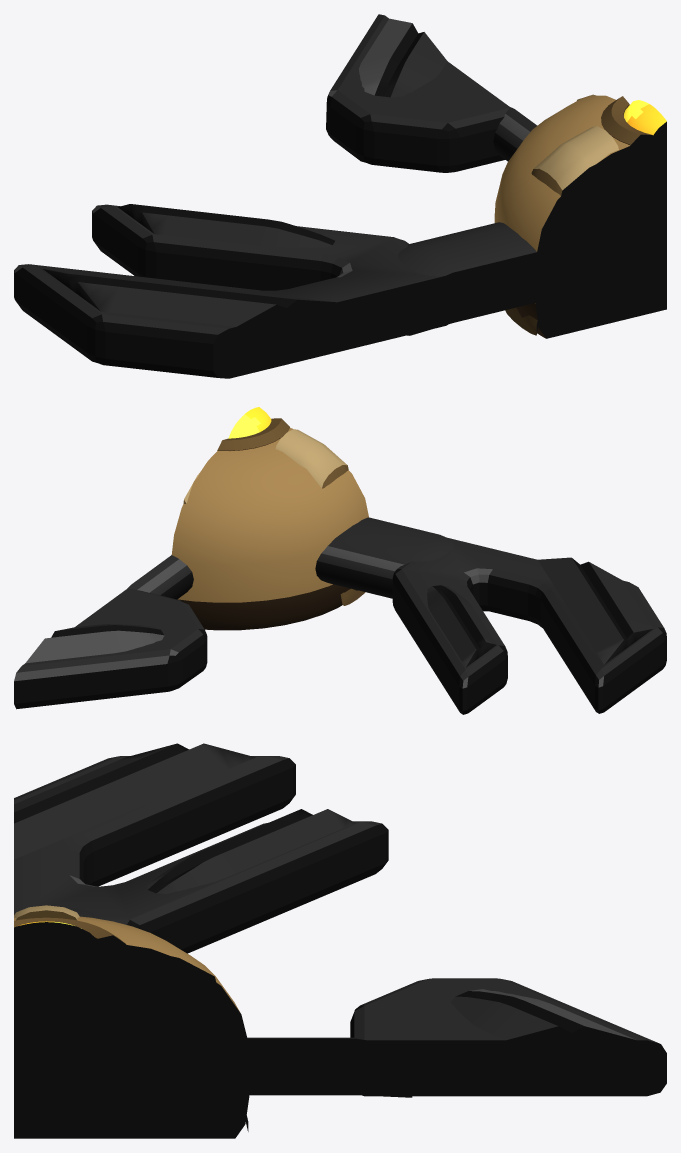
The model's file is spin_claw_153.glb.
The picture shows the model from 3 angles, top to bottom: view 1: azimuth 30°, elevation 25°; view 2: azimuth 150°, elevation 25°; view 3: azimuth 270°, elevation 25°; orthographic projection. The views are drawn at different scales.
Visible parts, largest first — view 1: spin_claw_153_arm3_plate, spin_claw_153_hub_dome, spin_claw_153_arm0_plate, spin_claw_153_arm3_rod, spin_claw_153_arm3_ridge0, spin_claw_153_arm3_ridge1, spin_claw_153_arm0_ridge0, spin_claw_153_hub_rib3, spin_claw_153_hub_bezel, spin_claw_153_arm0_rod, spin_claw_153_hub_lens; view 2: spin_claw_153_hub_dome, spin_claw_153_arm3_plate, spin_claw_153_arm0_plate, spin_claw_153_arm3_rod, spin_claw_153_arm3_ridge0, spin_claw_153_arm0_ridge0, spin_claw_153_arm3_ridge1, spin_claw_153_hub_rib3, spin_claw_153_arm0_rod, spin_claw_153_hub_bezel, spin_claw_153_hub_lens; view 3: spin_claw_153_hub_dome, spin_claw_153_arm3_plate, spin_claw_153_arm0_plate, spin_claw_153_arm0_rod, spin_claw_153_arm3_ridge0, spin_claw_153_arm3_ridge1, spin_claw_153_arm0_ridge0, spin_claw_153_hub_lens, spin_claw_153_hub_bezel, spin_claw_153_hub_rib3.
Part boxes in pixels (left/top/right/bottom): spin_claw_153_arm3_plate: left=14, top=204, right=457, bottom=378; spin_claw_153_hub_dome: left=494, top=95, right=666, bottom=338; spin_claw_153_arm0_plate: left=326, top=14, right=509, bottom=172; spin_claw_153_arm3_rod: left=398, top=222, right=610, bottom=335; spin_claw_153_arm3_ridge0: left=43, top=269, right=346, bottom=337; spin_claw_153_arm3_ridge1: left=118, top=204, right=335, bottom=247; spin_claw_153_arm0_ridge0: left=359, top=18, right=447, bottom=97; spin_claw_153_hub_rib3: left=505, top=126, right=619, bottom=335; spin_claw_153_hub_bezel: left=601, top=96, right=666, bottom=157; spin_claw_153_arm0_rod: left=493, top=107, right=537, bottom=161; spin_claw_153_hub_lens: left=624, top=100, right=666, bottom=155; spin_claw_153_hub_dome: left=171, top=427, right=368, bottom=630; spin_claw_153_arm3_plate: left=392, top=538, right=666, bottom=714; spin_claw_153_arm0_plate: left=14, top=588, right=207, bottom=709; spin_claw_153_arm3_rod: left=315, top=517, right=453, bottom=598; spin_claw_153_arm3_ridge0: left=538, top=557, right=653, bottom=664; spin_claw_153_arm0_ridge0: left=25, top=624, right=164, bottom=663; spin_claw_153_arm3_ridge1: left=427, top=585, right=496, bottom=667; spin_claw_153_hub_rib3: left=275, top=429, right=365, bottom=605; spin_claw_153_arm0_rod: left=127, top=555, right=193, bottom=599; spin_claw_153_hub_bezel: left=217, top=418, right=289, bottom=450; spin_claw_153_hub_lens: left=228, top=407, right=271, bottom=438; spin_claw_153_hub_dome: left=14, top=916, right=249, bottom=1138; spin_claw_153_arm3_plate: left=14, top=756, right=388, bottom=953; spin_claw_153_arm0_plate: left=350, top=978, right=666, bottom=1096; spin_claw_153_arm0_rod: left=152, top=1037, right=412, bottom=1097; spin_claw_153_arm3_ridge0: left=14, top=743, right=255, bottom=859; spin_claw_153_arm3_ridge1: left=146, top=809, right=355, bottom=893; spin_claw_153_arm0_ridge0: left=450, top=989, right=647, bottom=1050; spin_claw_153_hub_lens: left=14, top=921, right=99, bottom=961; spin_claw_153_hub_bezel: left=14, top=917, right=126, bottom=958; spin_claw_153_hub_rib3: left=14, top=905, right=79, bottom=920.
Size of the model in its own units: 10.52 by 3.66 by 10.01.
